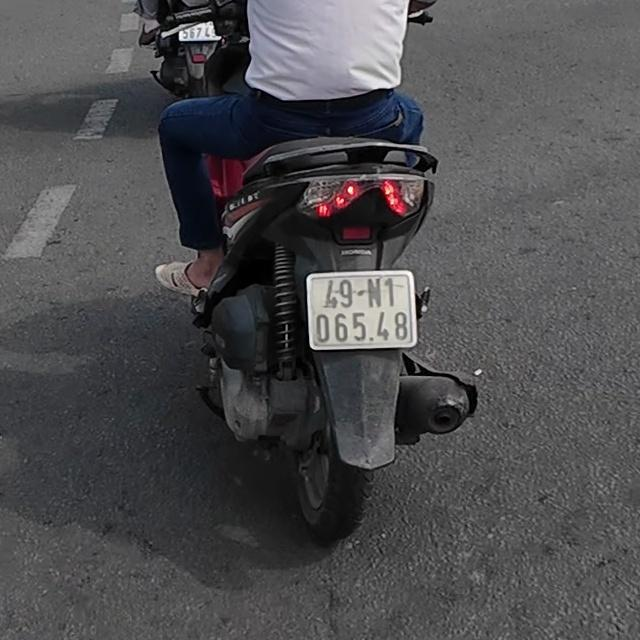motorcycle: (197, 140, 483, 541)
plate: (304, 272, 419, 352)
